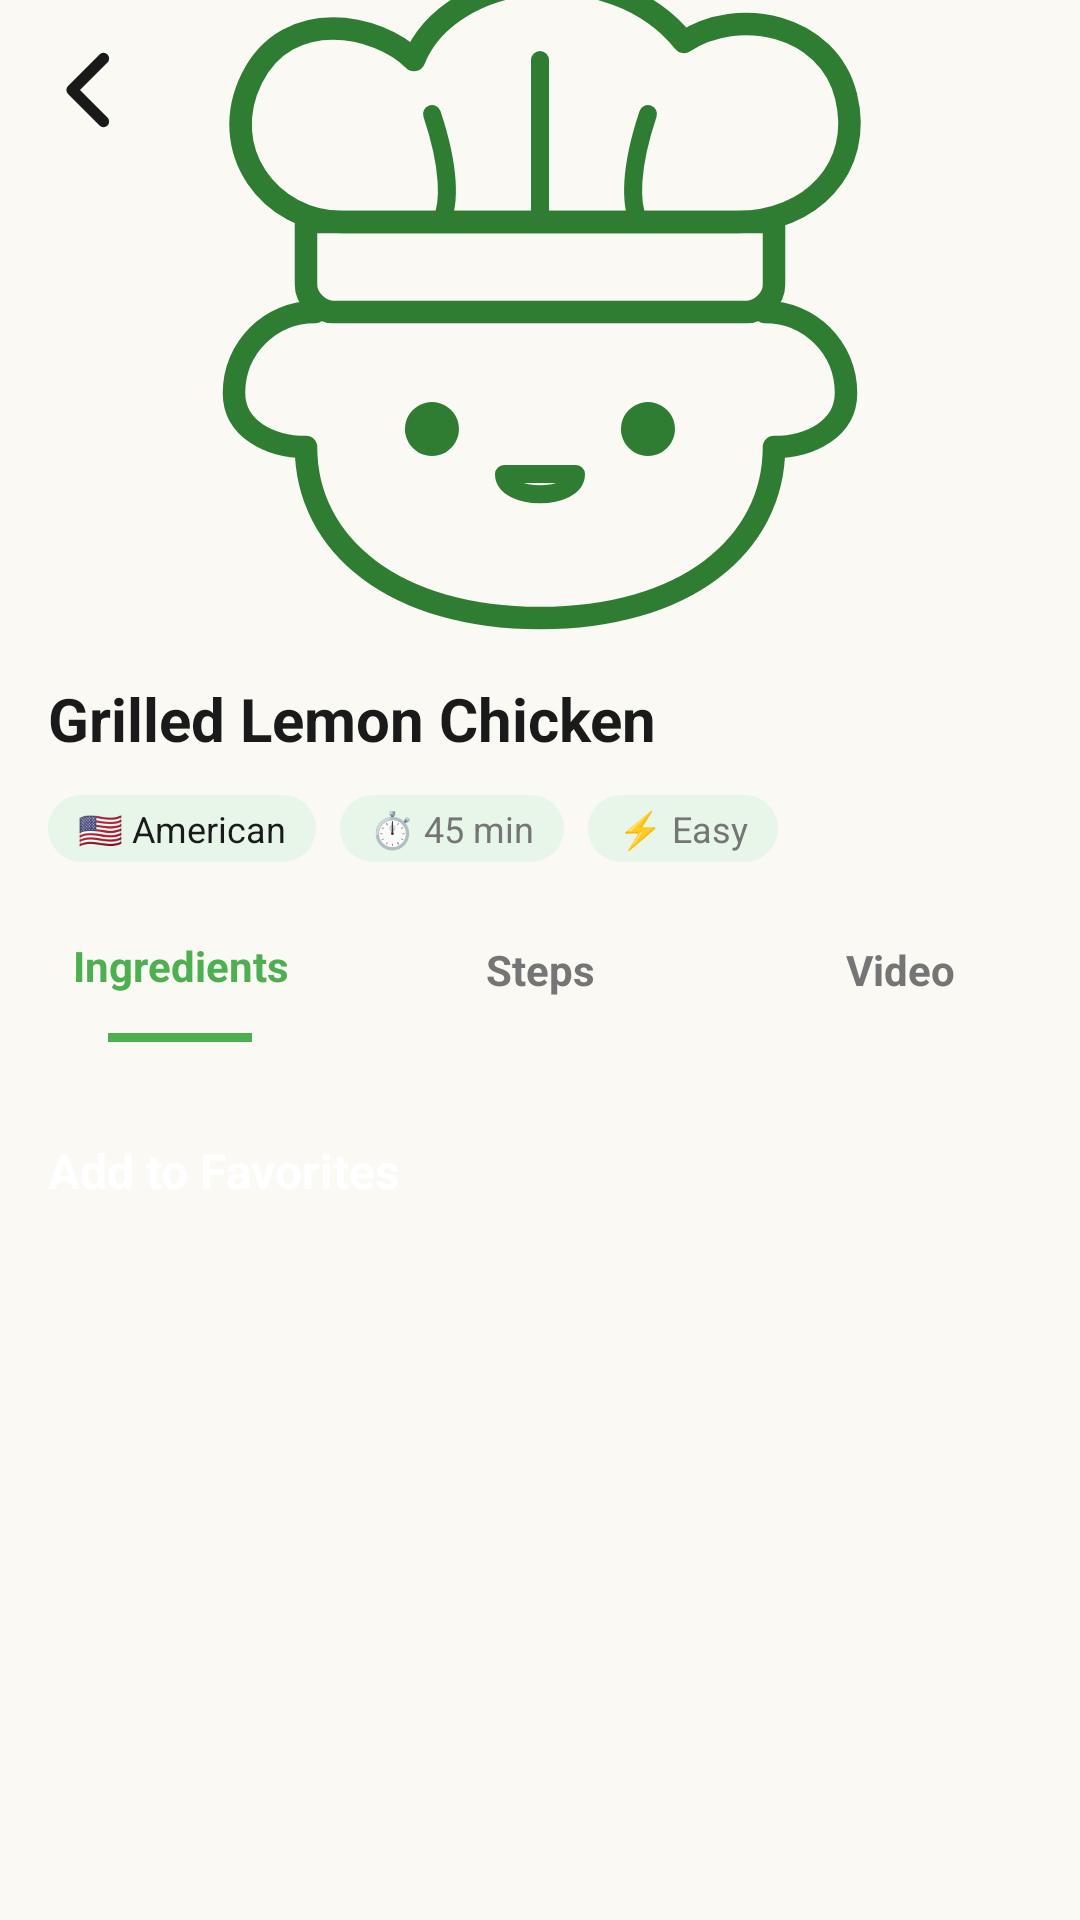

Icons on this 1080w x 1920h Android screen, each with its box as Rect(x1, y1, x2, y2):
Go back: Rect(66, 52, 109, 128)
